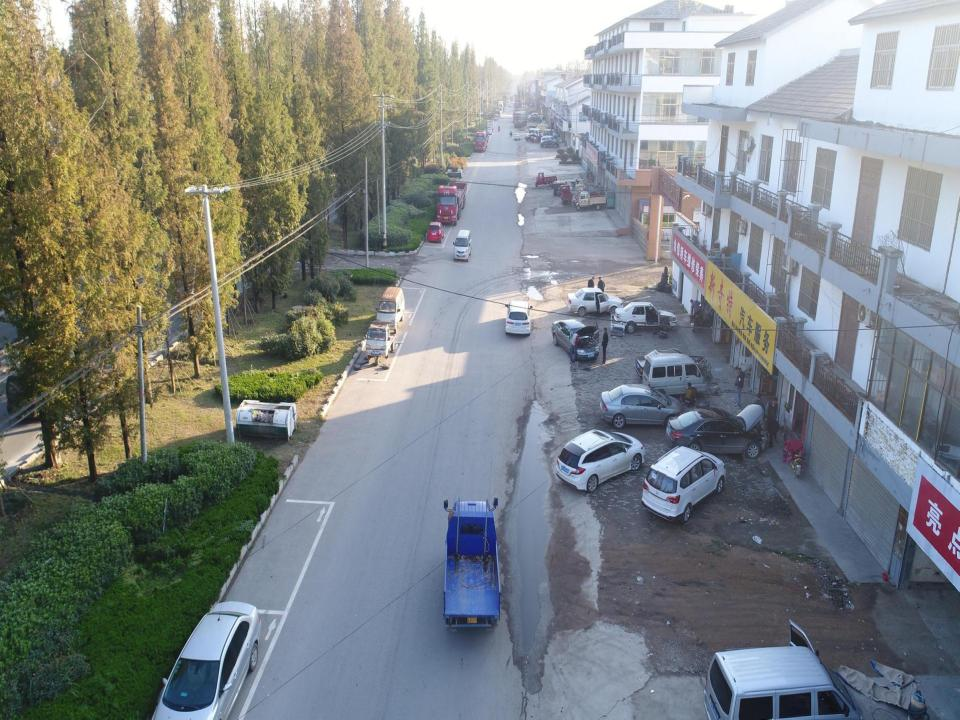car: (146, 600, 264, 719), (640, 441, 727, 524), (663, 402, 766, 460), (557, 428, 647, 491), (3, 356, 80, 423), (598, 385, 684, 430), (632, 344, 713, 382), (608, 301, 678, 338), (550, 317, 600, 359), (566, 287, 625, 316), (501, 298, 536, 338), (427, 217, 444, 245), (540, 140, 560, 150), (524, 133, 540, 144), (540, 137, 556, 147), (486, 127, 493, 136), (486, 126, 493, 134), (514, 132, 520, 140), (494, 113, 499, 120), (525, 114, 533, 118), (508, 103, 512, 107)
truck: (436, 179, 466, 226), (475, 132, 490, 154), (513, 108, 524, 122)
van: (700, 620, 862, 720), (641, 347, 708, 396), (374, 284, 408, 324), (447, 226, 476, 264), (541, 129, 557, 139), (542, 135, 556, 145), (528, 127, 541, 137), (536, 123, 548, 132)
